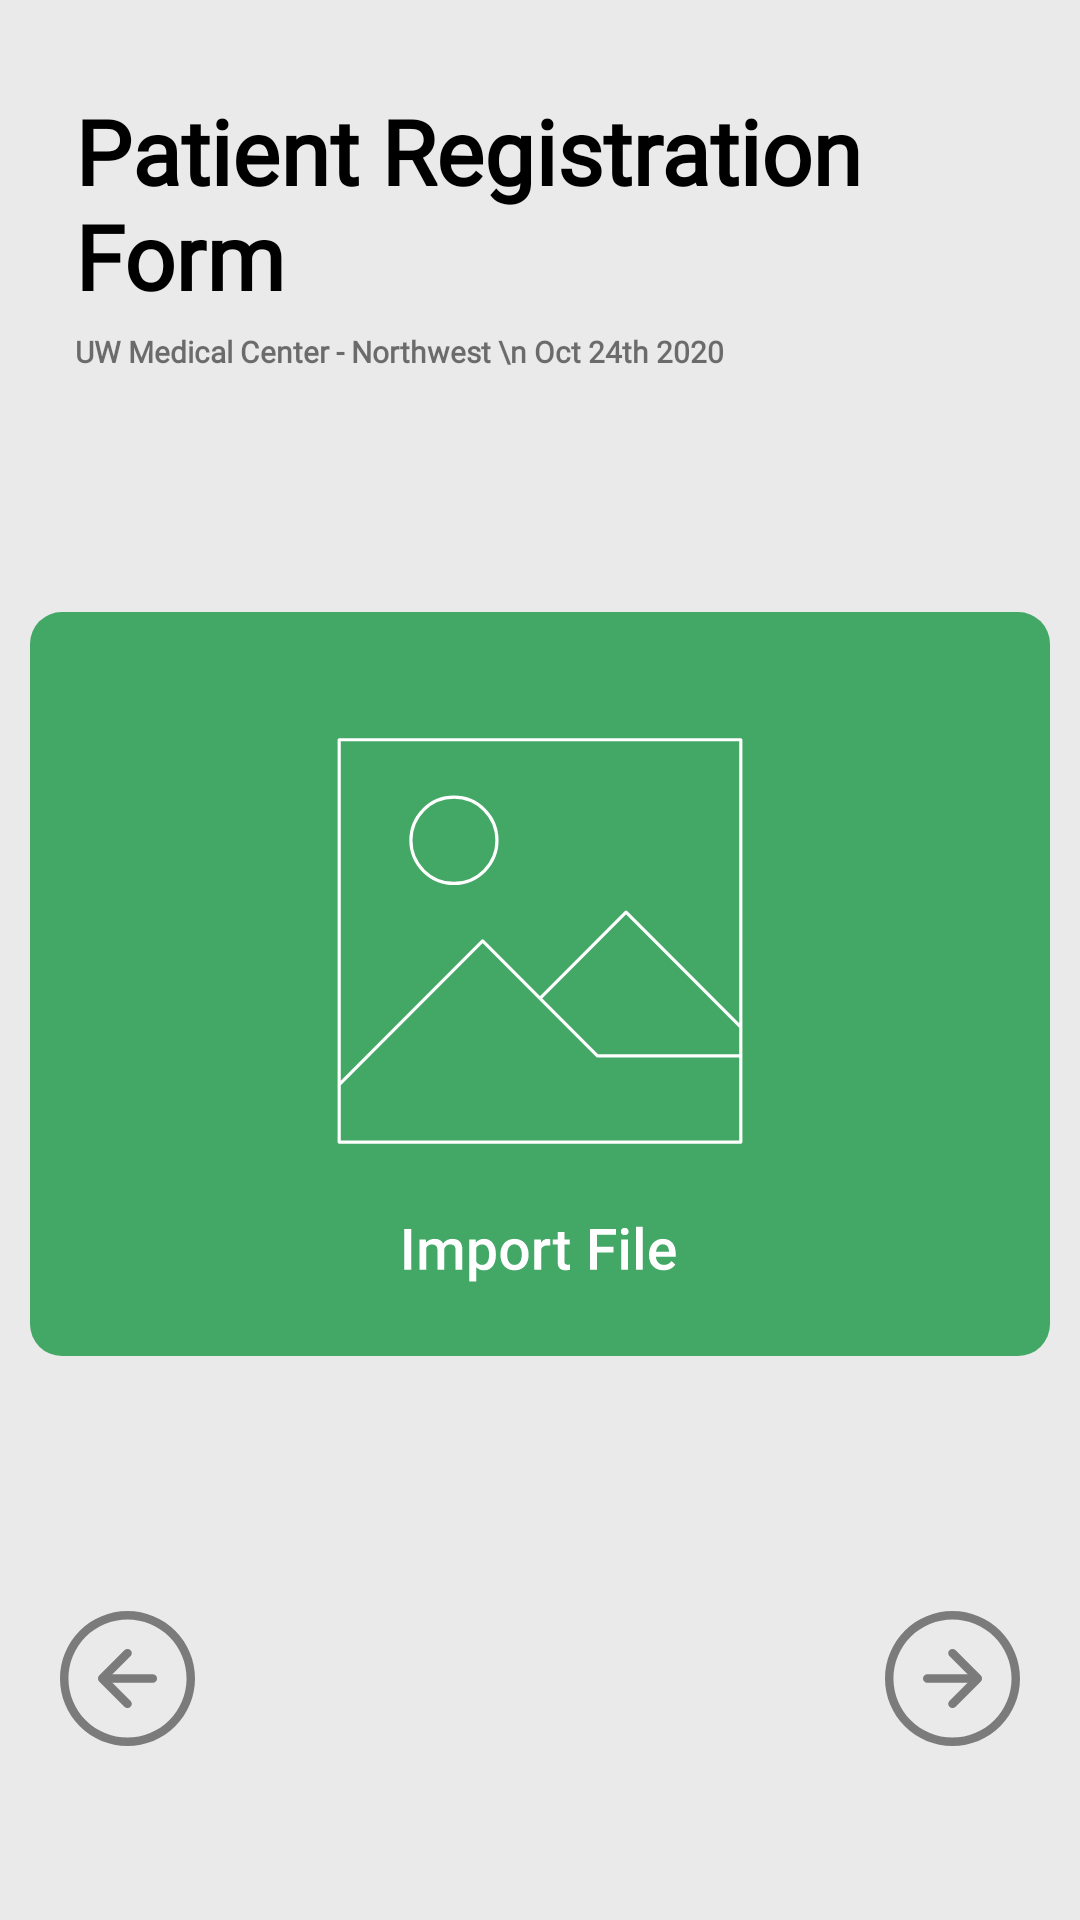

Screen size 1080w x 1920h. Icon name, then its center in pixels as point (x, y):
bi arrow left circle: point (127, 1678)
bi arrow right circle: point (952, 1678)
